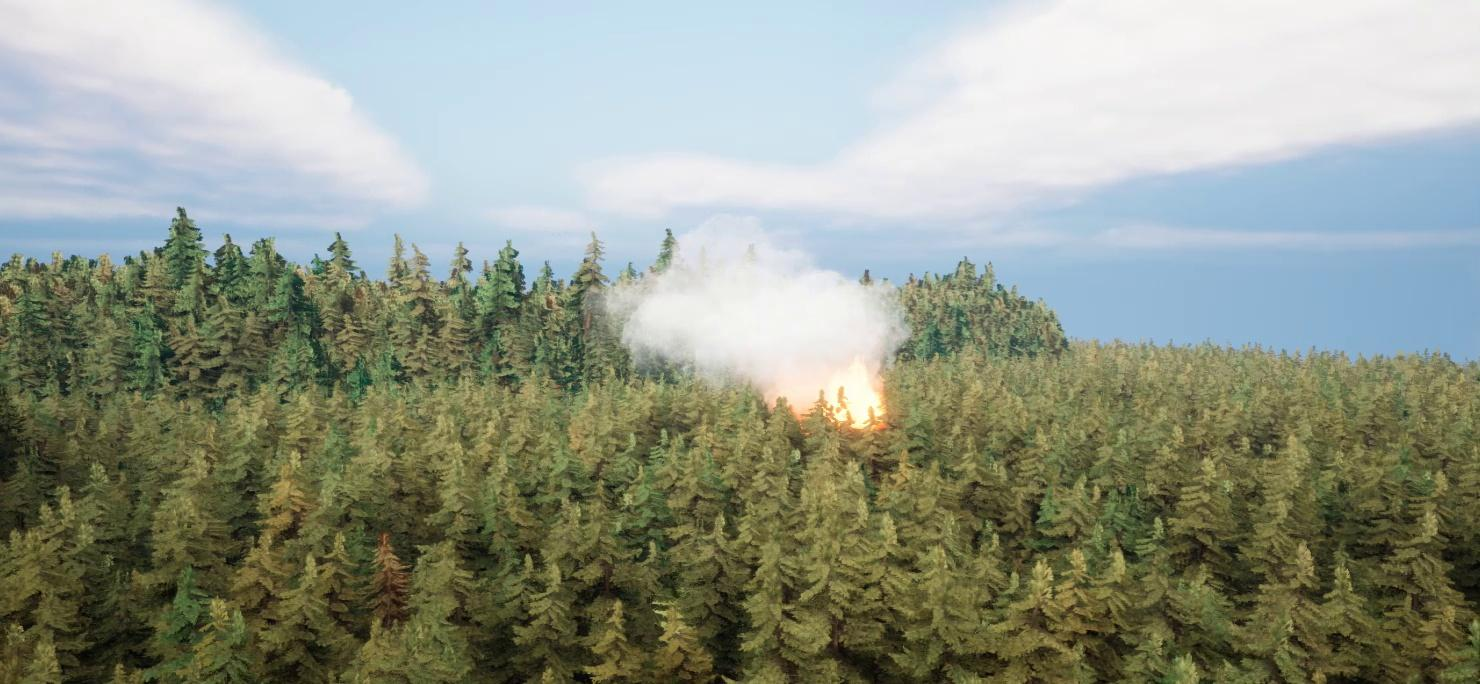fire: (811, 345, 890, 434)
smoke: (593, 217, 900, 429)
